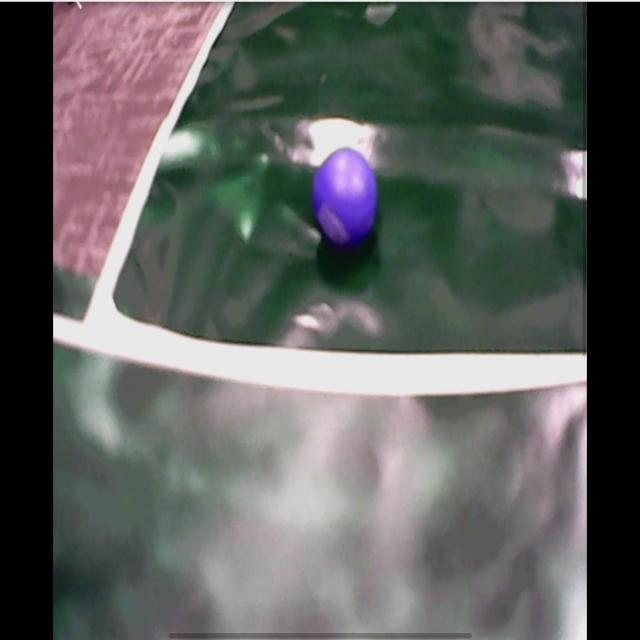ball: (315, 149, 377, 244)
